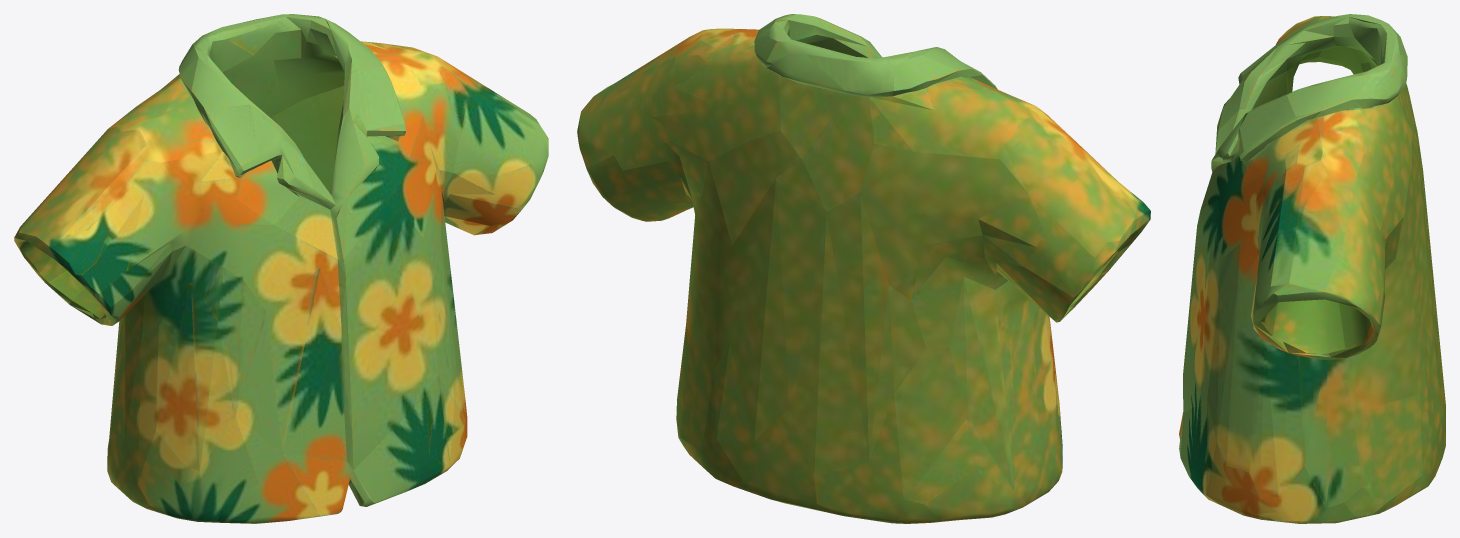
Rendered from shirt_hawaii.fbx.
3 views of the same model, side by side, from view 1: azimuth 30°, elevation 25°; view 2: azimuth 150°, elevation 25°; view 3: azimuth 270°, elevation 25° (orthographic). The views are drawn at different scales.
Parts seen in each view (by area): view 1: Mesh_0; view 2: Mesh_0; view 3: Mesh_0.
Boxes of the visible parts, x1=… form: Mesh_0: x1=14, y1=14, x2=548, y2=523; Mesh_0: x1=577, y1=14, x2=1150, y2=523; Mesh_0: x1=1179, y1=14, x2=1445, y2=523.
Size of the model in its own units: 1.89 by 1.48 by 0.8812.
1 material, 1 textured.
